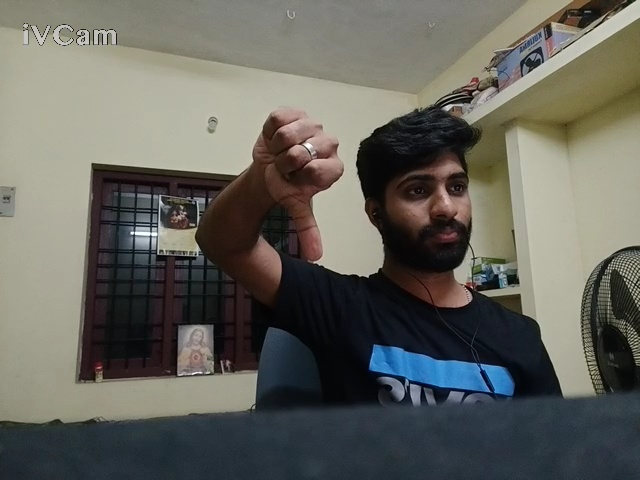No: (197, 97, 373, 273)
